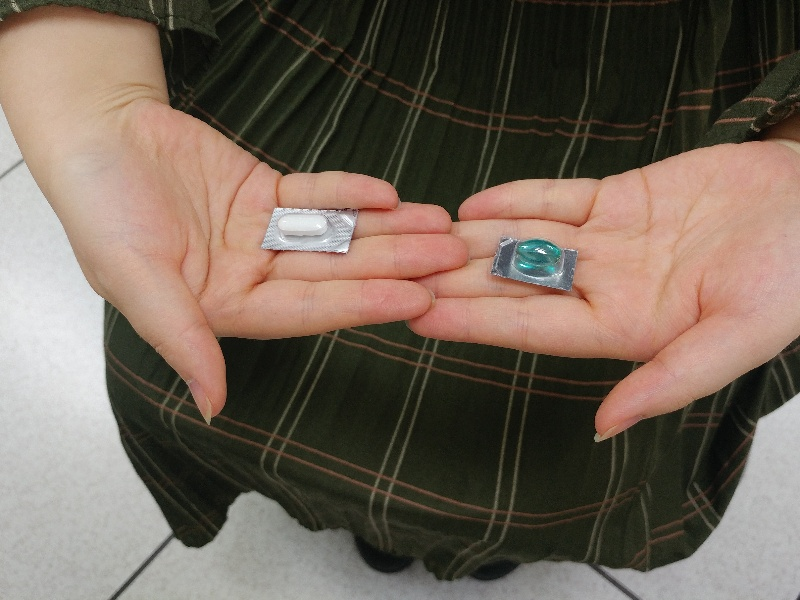pill_ezn: (492, 236, 579, 292)
pill_tylenol: (261, 207, 357, 252)
